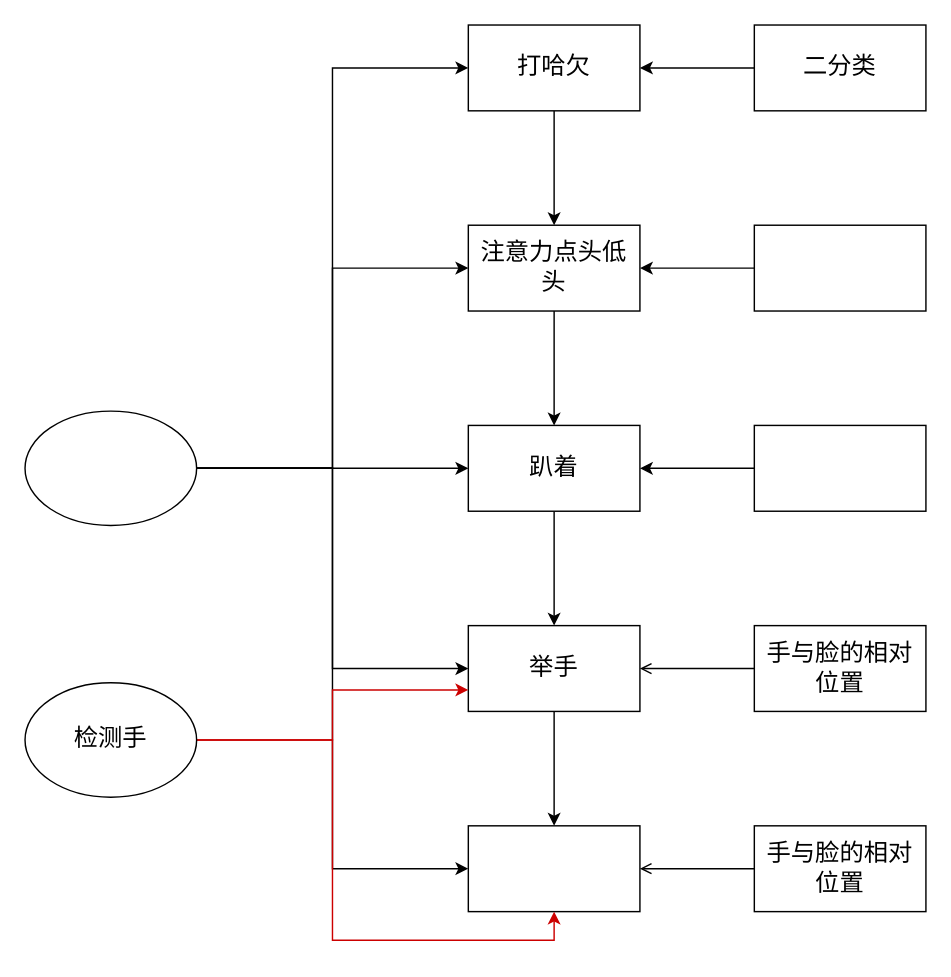
Image size: 951x977. Some labels were removed from this diagram. The shapes that lost their labels are listed below. From the top down, each one's box as (x1, y1, x2, y2) in pixels, then its label:
(753, 224, 926, 311): 脸的欧拉角
(24, 410, 197, 526): 检测脸
(753, 424, 926, 511): 脸的相对位置
(467, 824, 640, 912): 抓耳挠腮
